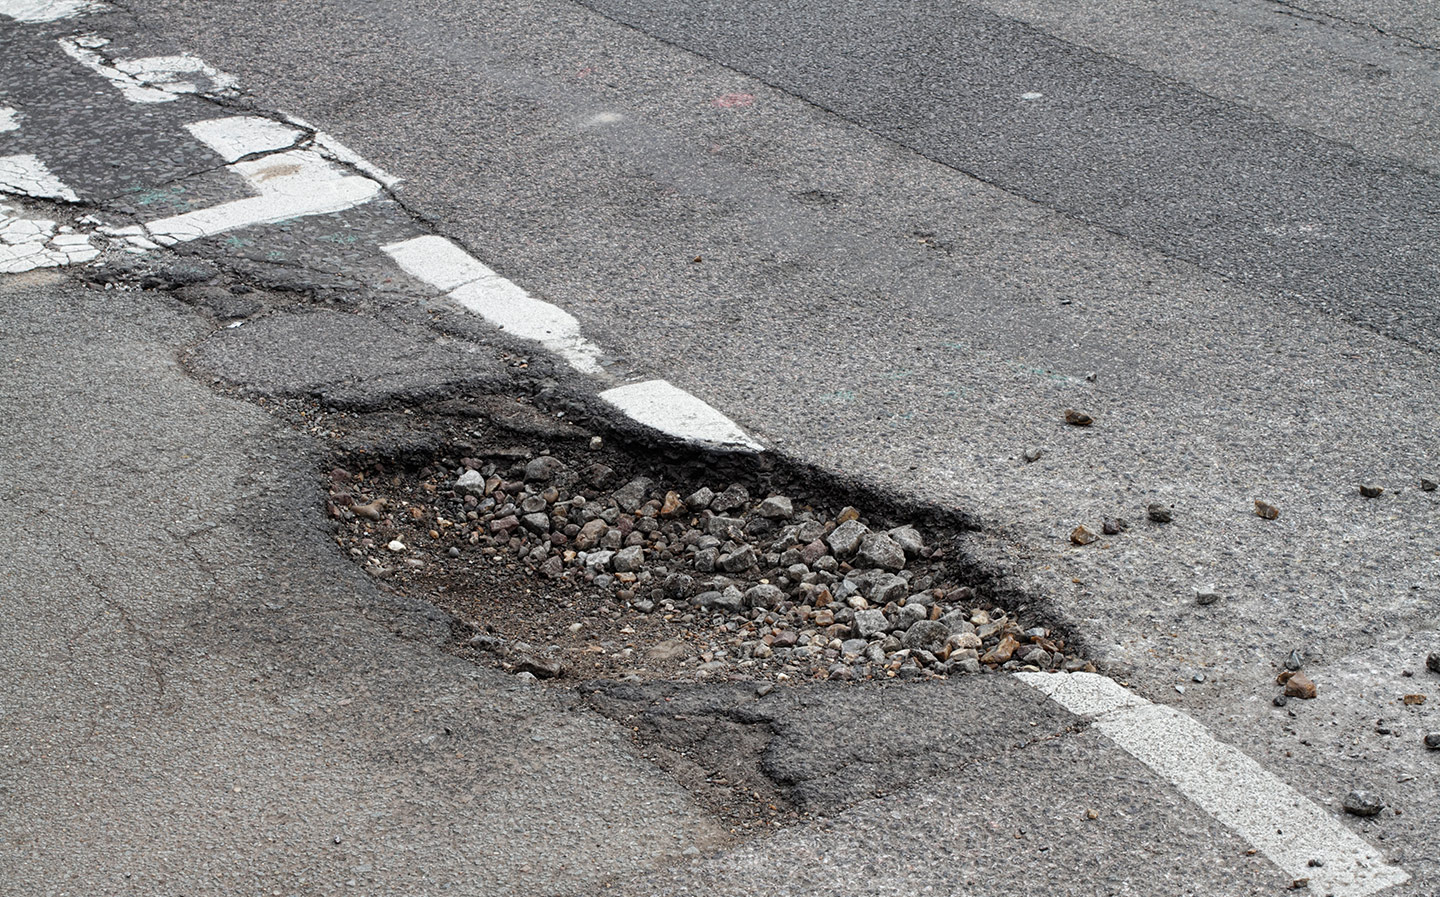pothole: (275, 388, 1053, 695)
